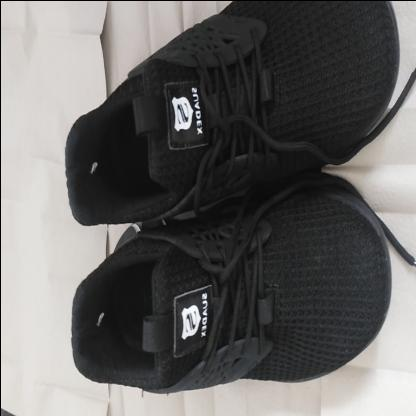safety-shoe: (64, 0, 399, 392)
